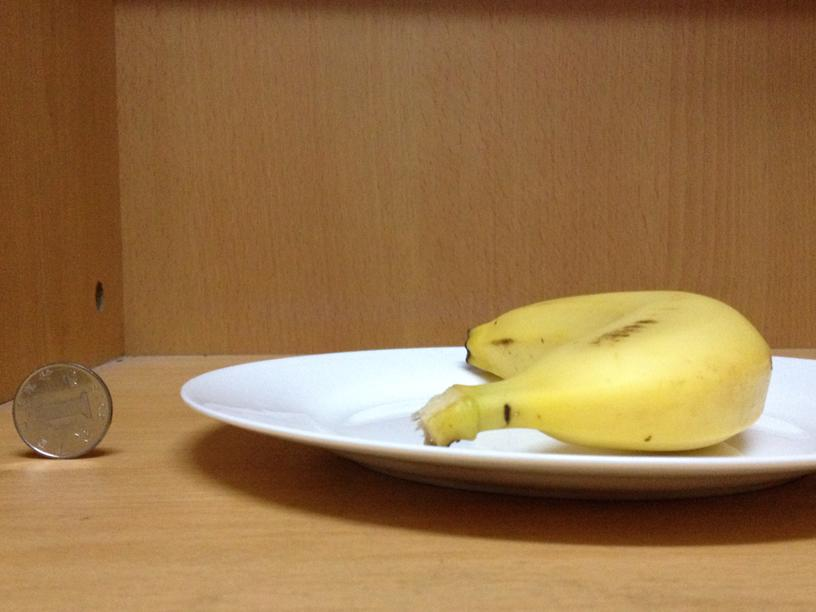banana: (466, 291, 772, 450)
coin: (11, 363, 114, 457)
